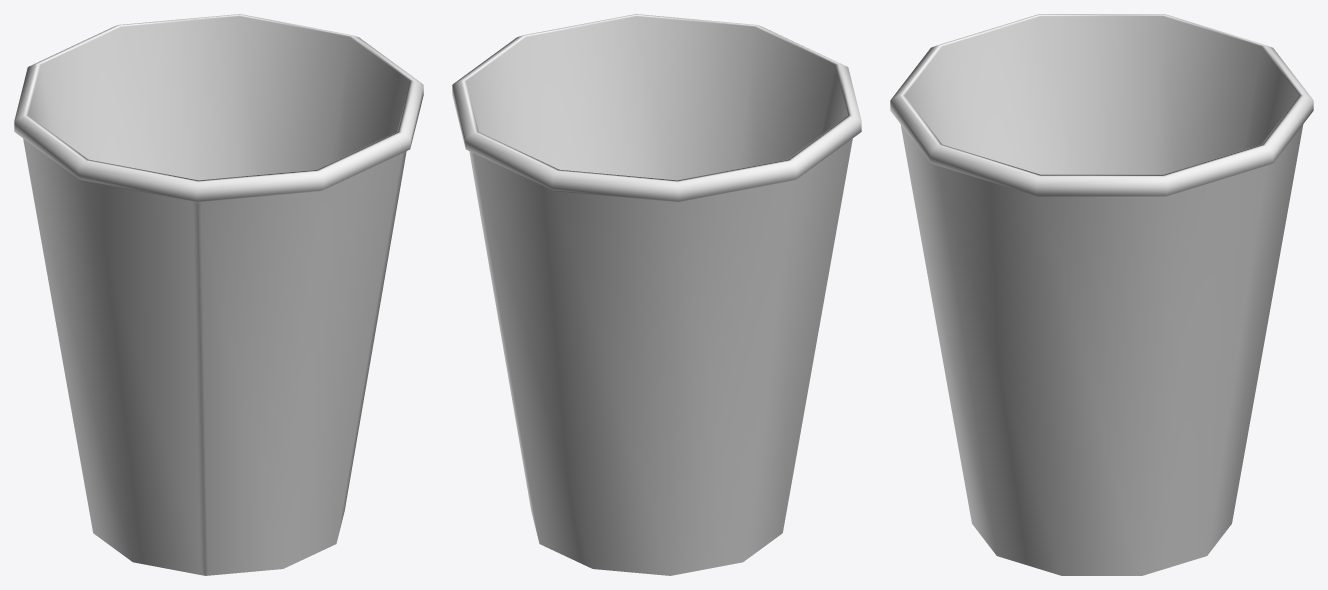
The model's file is PaperCup_01.fbx.
3 views of the same model, side by side, from view 1: azimuth 30°, elevation 25°; view 2: azimuth 150°, elevation 25°; view 3: azimuth 270°, elevation 25° (orthographic).
Visible parts, largest first — view 1: pCylinder1; view 2: pCylinder1; view 3: pCylinder1.
Part boxes in pixels (<box>): pCylinder1: <box>14,14,423,575</box>; pCylinder1: <box>452,14,861,575</box>; pCylinder1: <box>890,14,1313,575</box>.
Bounding box in the file's own units: 7.73 × 9.07 × 8.13.
1 material, 1 textured.
